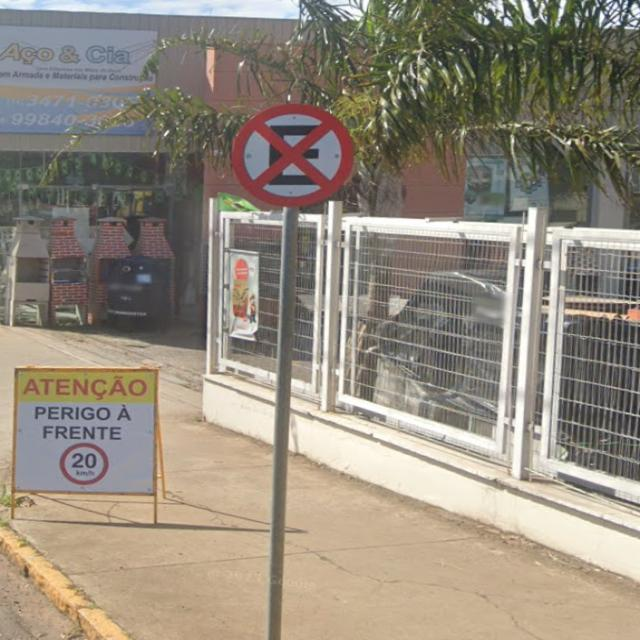no parking: (212, 95, 376, 217)
